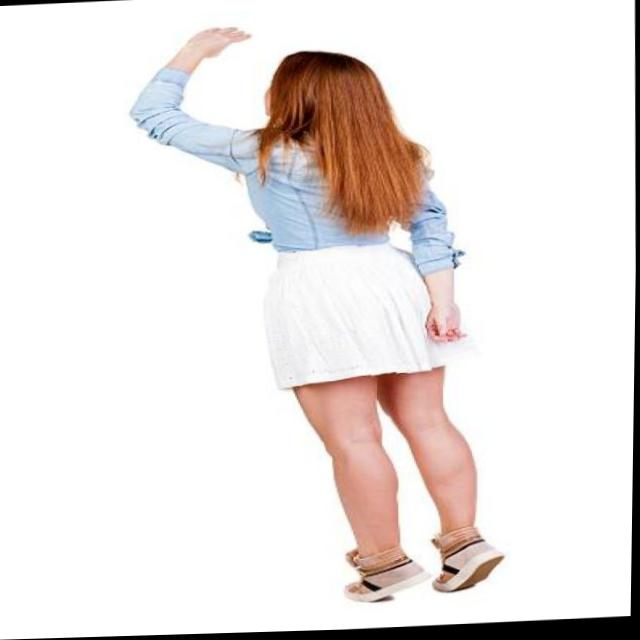no helmet: (270, 48, 391, 137)
